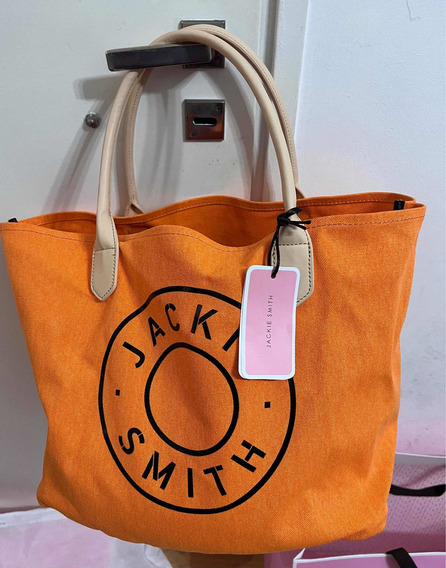cartera: (1, 26, 427, 554)
